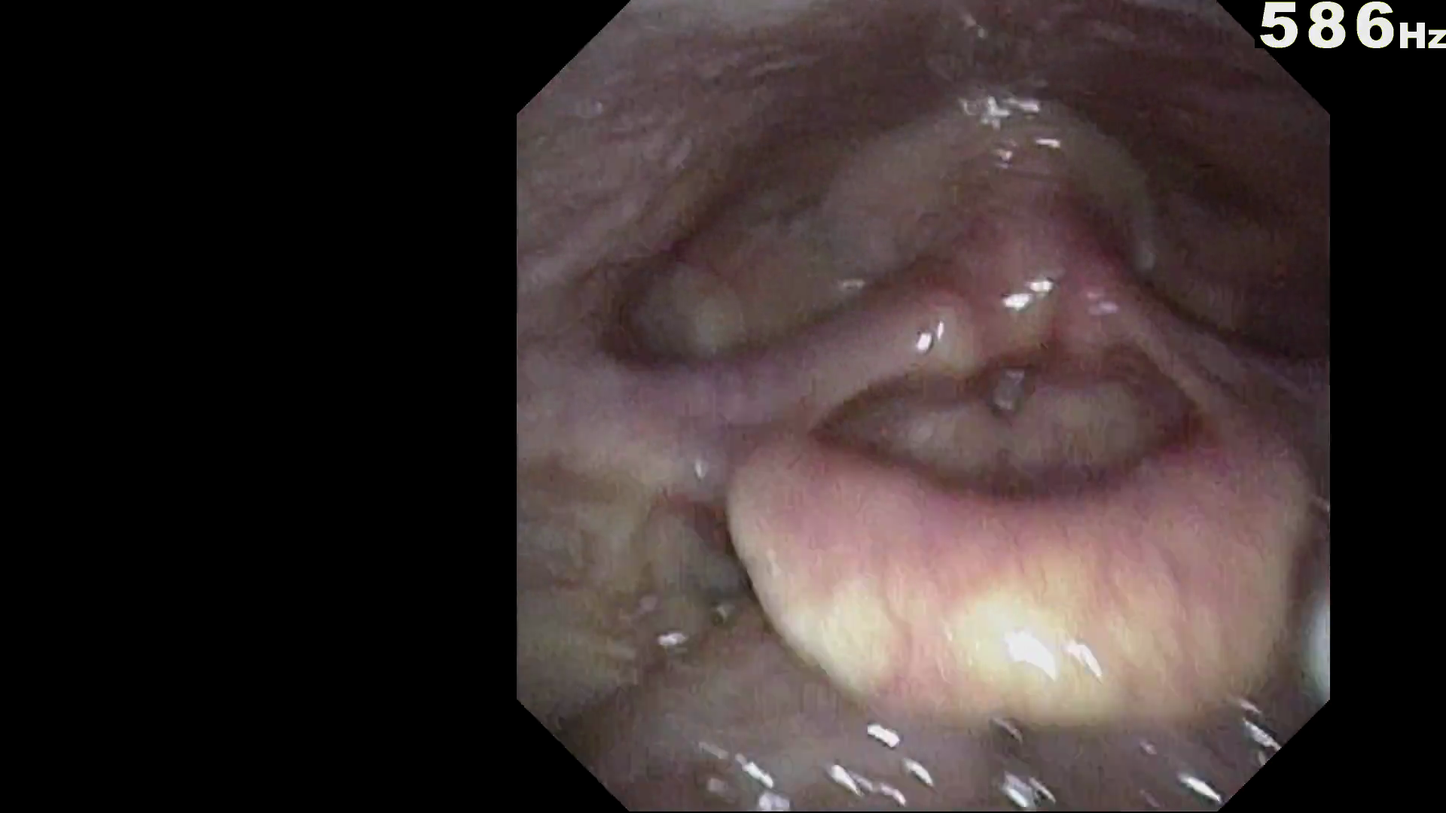epiglottis: (731, 449, 1265, 630)
